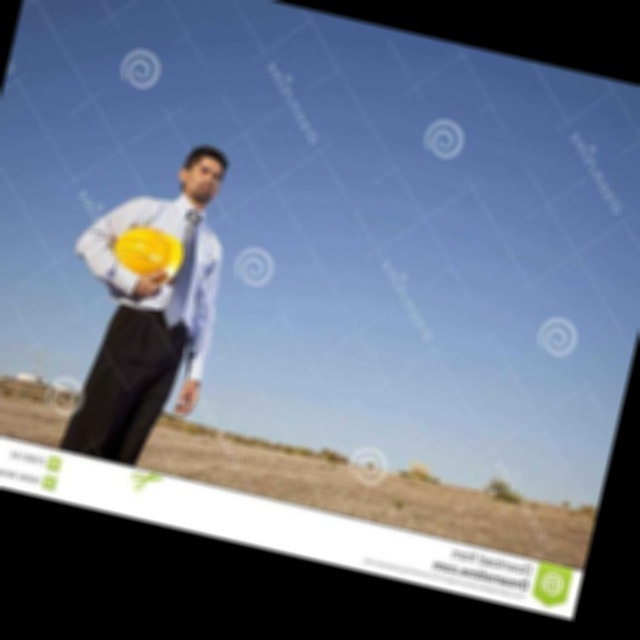Sin_Casco_Mascarrilla: (172, 140, 232, 206)
